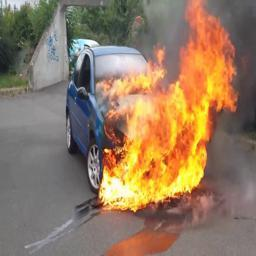fire: (98, 1, 240, 211)
